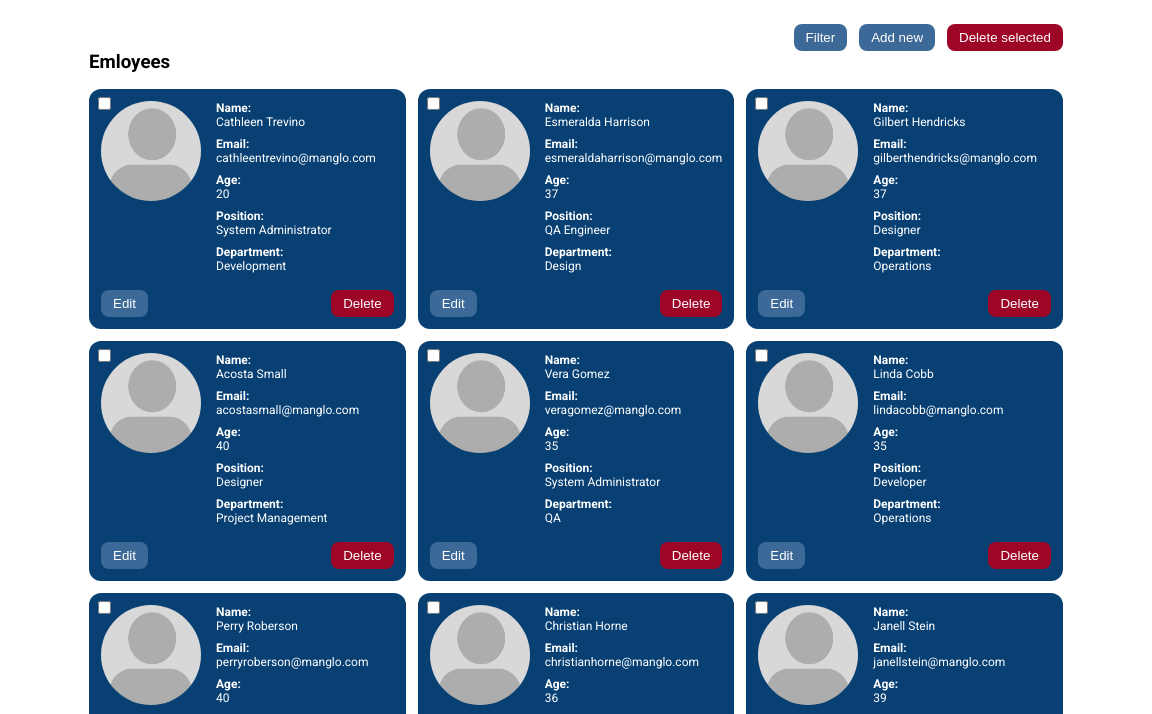
Test: Employees › should edit employee and update employees
Click the button with test id "edit-employee" below "Development" at (124, 304), box [101, 290, 148, 317]
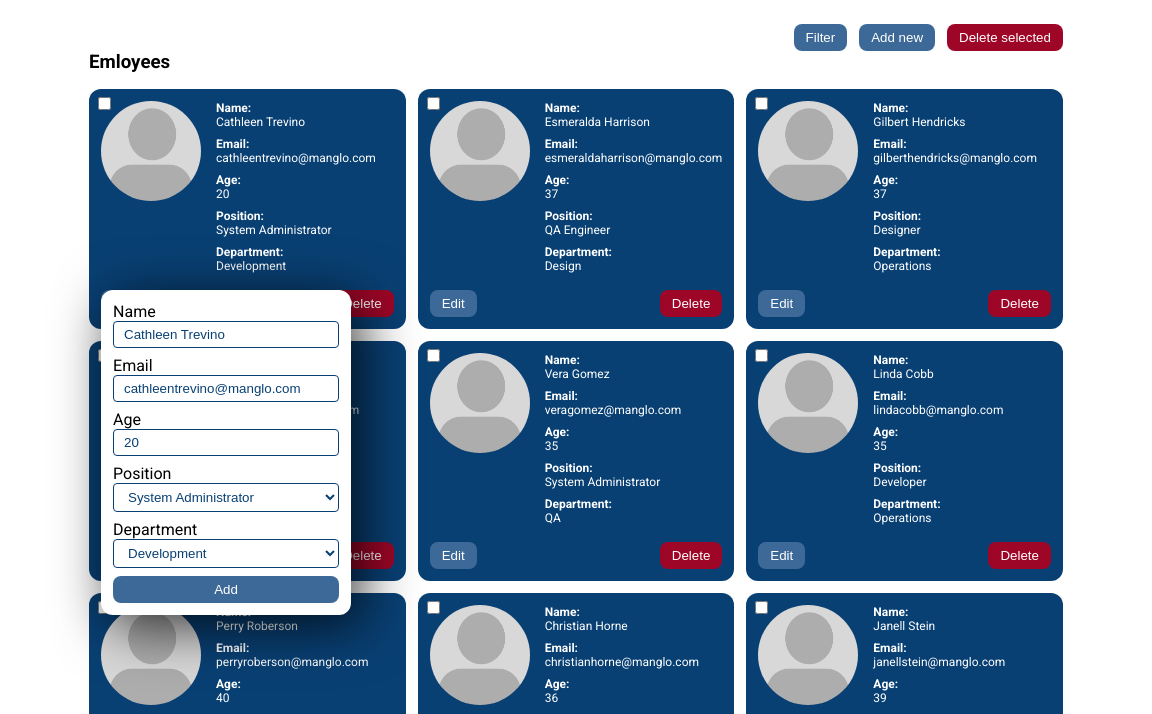
Replace the text in the field with test id "edit-employee-name" with "test name" at (226, 334), box [113, 321, 339, 348]
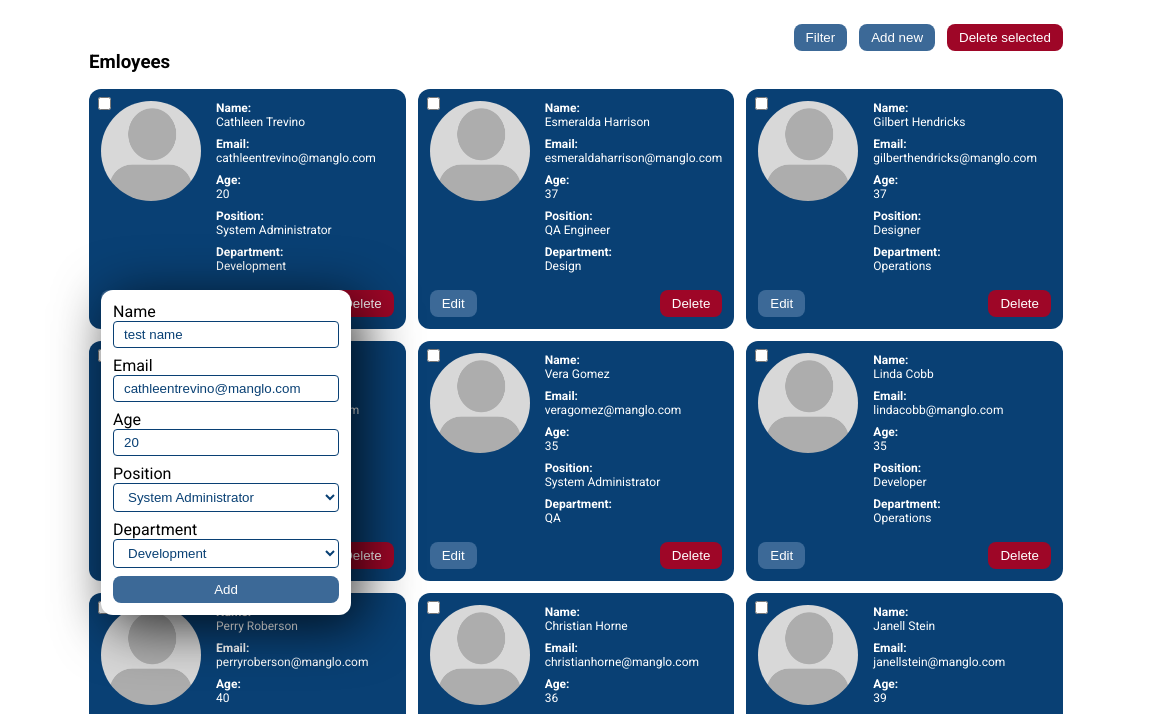
Click the button with test id "edit-employee-submit" at (226, 590), box [113, 576, 339, 603]
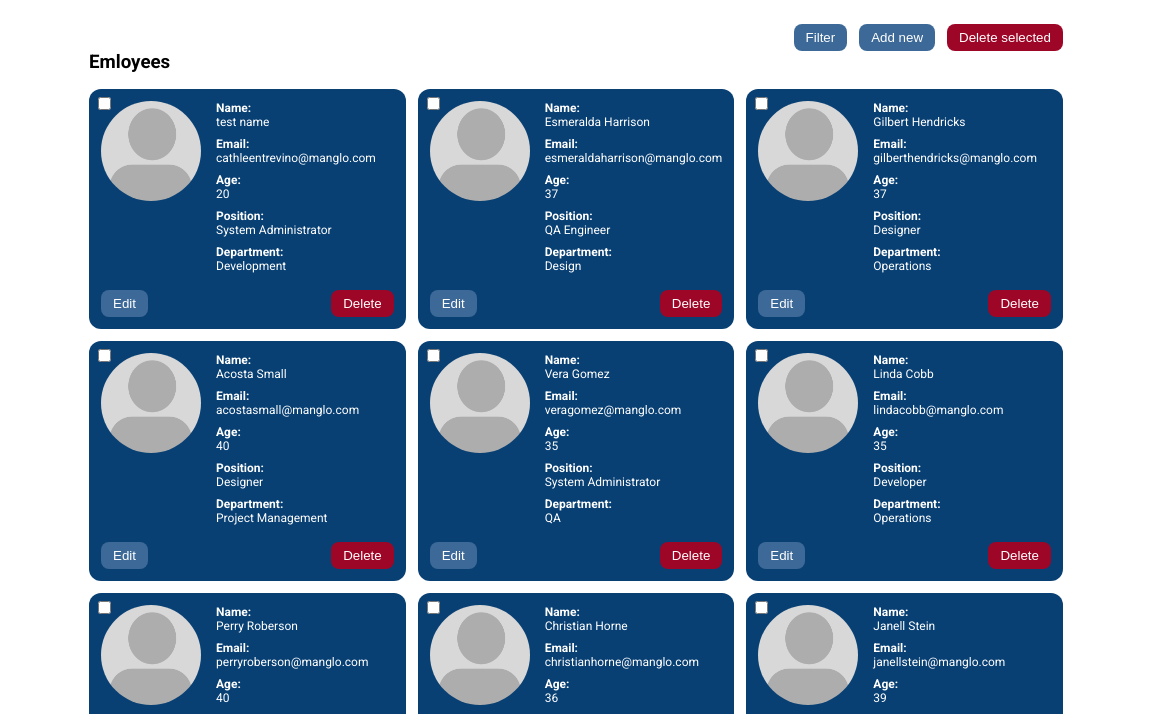
Expected: the text "test name" is shown, [216, 115, 269, 129]
